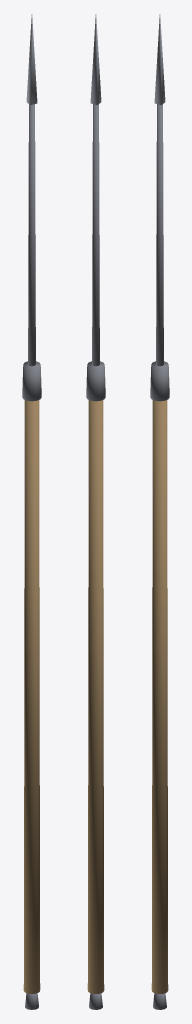
The model's file is javelin.glb.
3 renders of one model, left to right at view 1: azimuth 30°, elevation 25°; view 2: azimuth 150°, elevation 25°; view 3: azimuth 330°, elevation 25°, orthographic.
Visible parts, largest first — view 1: shaft, shank, collar, point, buttcap; view 2: shaft, shank, collar, point, buttcap; view 3: shaft, shank, collar, point, buttcap.
Boxes of the visible parts, <box> form: shaft: <box>23,400,40,993</box>; shank: <box>28,104,35,366</box>; collar: <box>22,361,41,401</box>; point: <box>26,14,37,104</box>; buttcap: <box>25,993,38,1009</box>; shaft: <box>87,400,104,993</box>; shank: <box>92,104,99,366</box>; collar: <box>86,361,105,401</box>; point: <box>90,14,101,104</box>; buttcap: <box>89,993,102,1009</box>; shaft: <box>151,400,168,993</box>; shank: <box>156,104,163,366</box>; collar: <box>150,361,169,401</box>; point: <box>154,14,165,104</box>; buttcap: <box>153,993,166,1009</box>.
Size of the model in its own units: 0.038 by 2.12 by 0.038.
